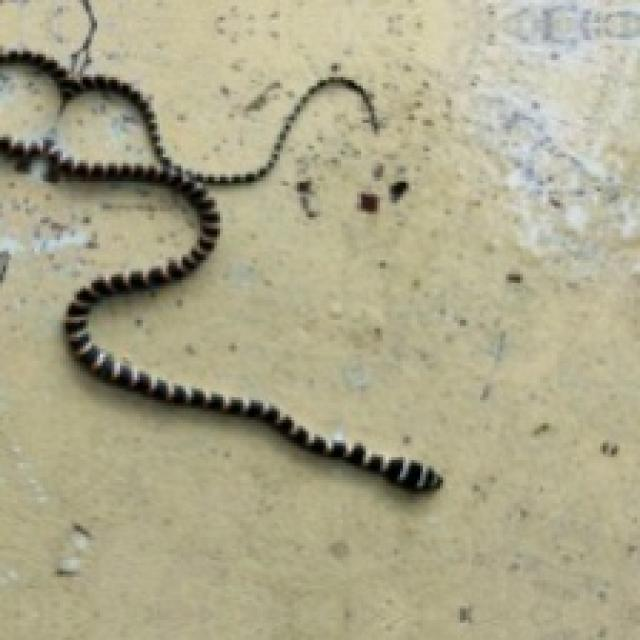paradise tree snake: (0, 51, 440, 489)
